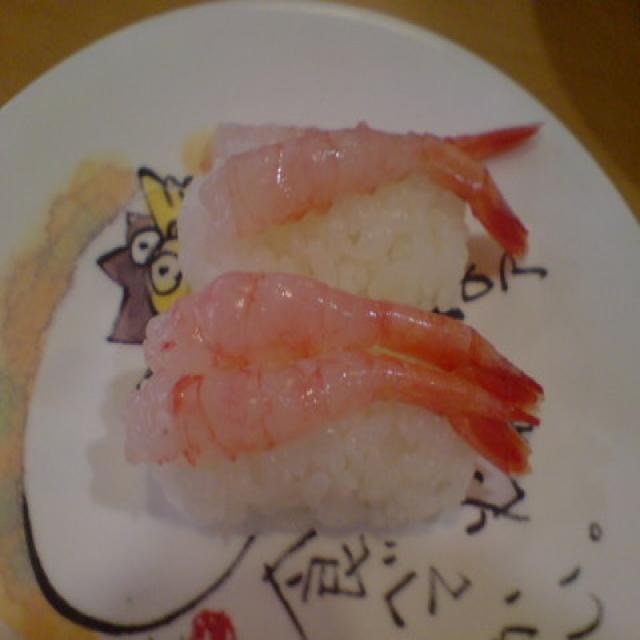Sushi: (194, 130, 509, 501)
